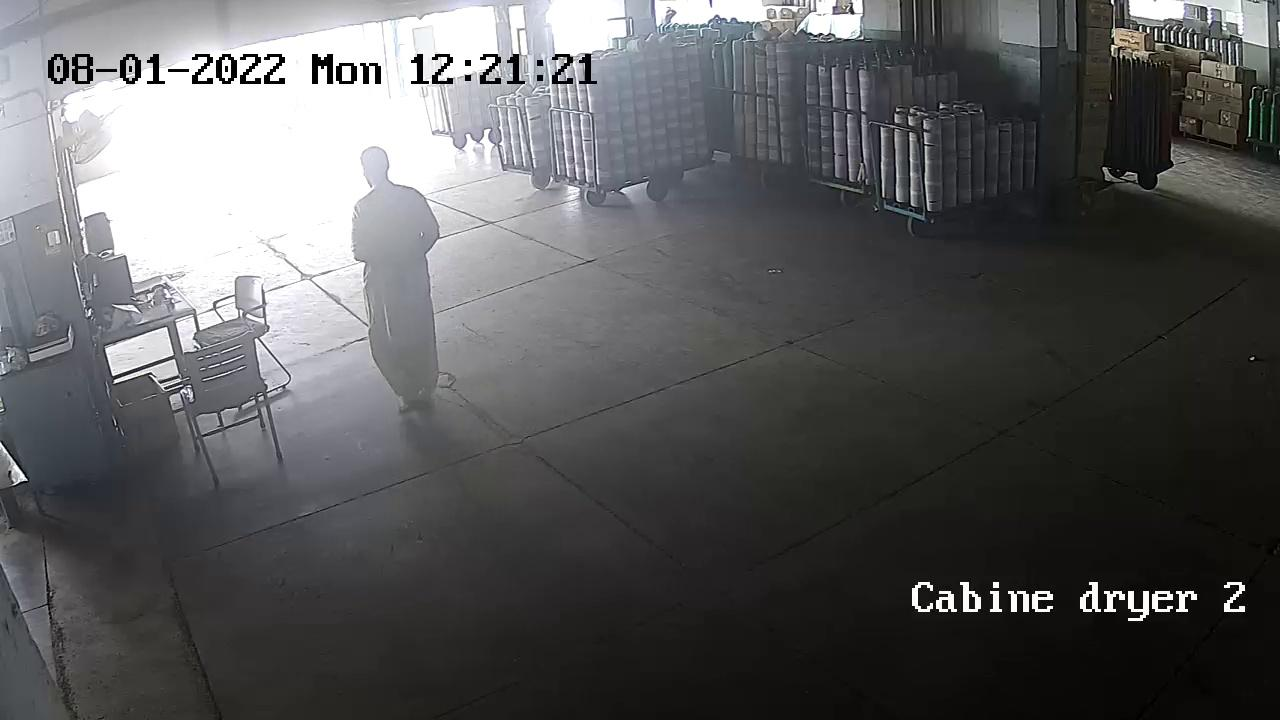person: (351, 152, 449, 408)
